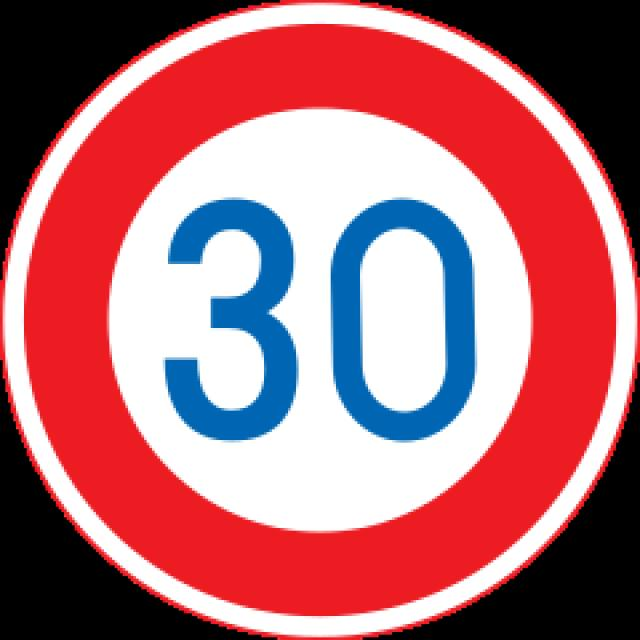Speed Limit -30-: (158, 187, 486, 451)
